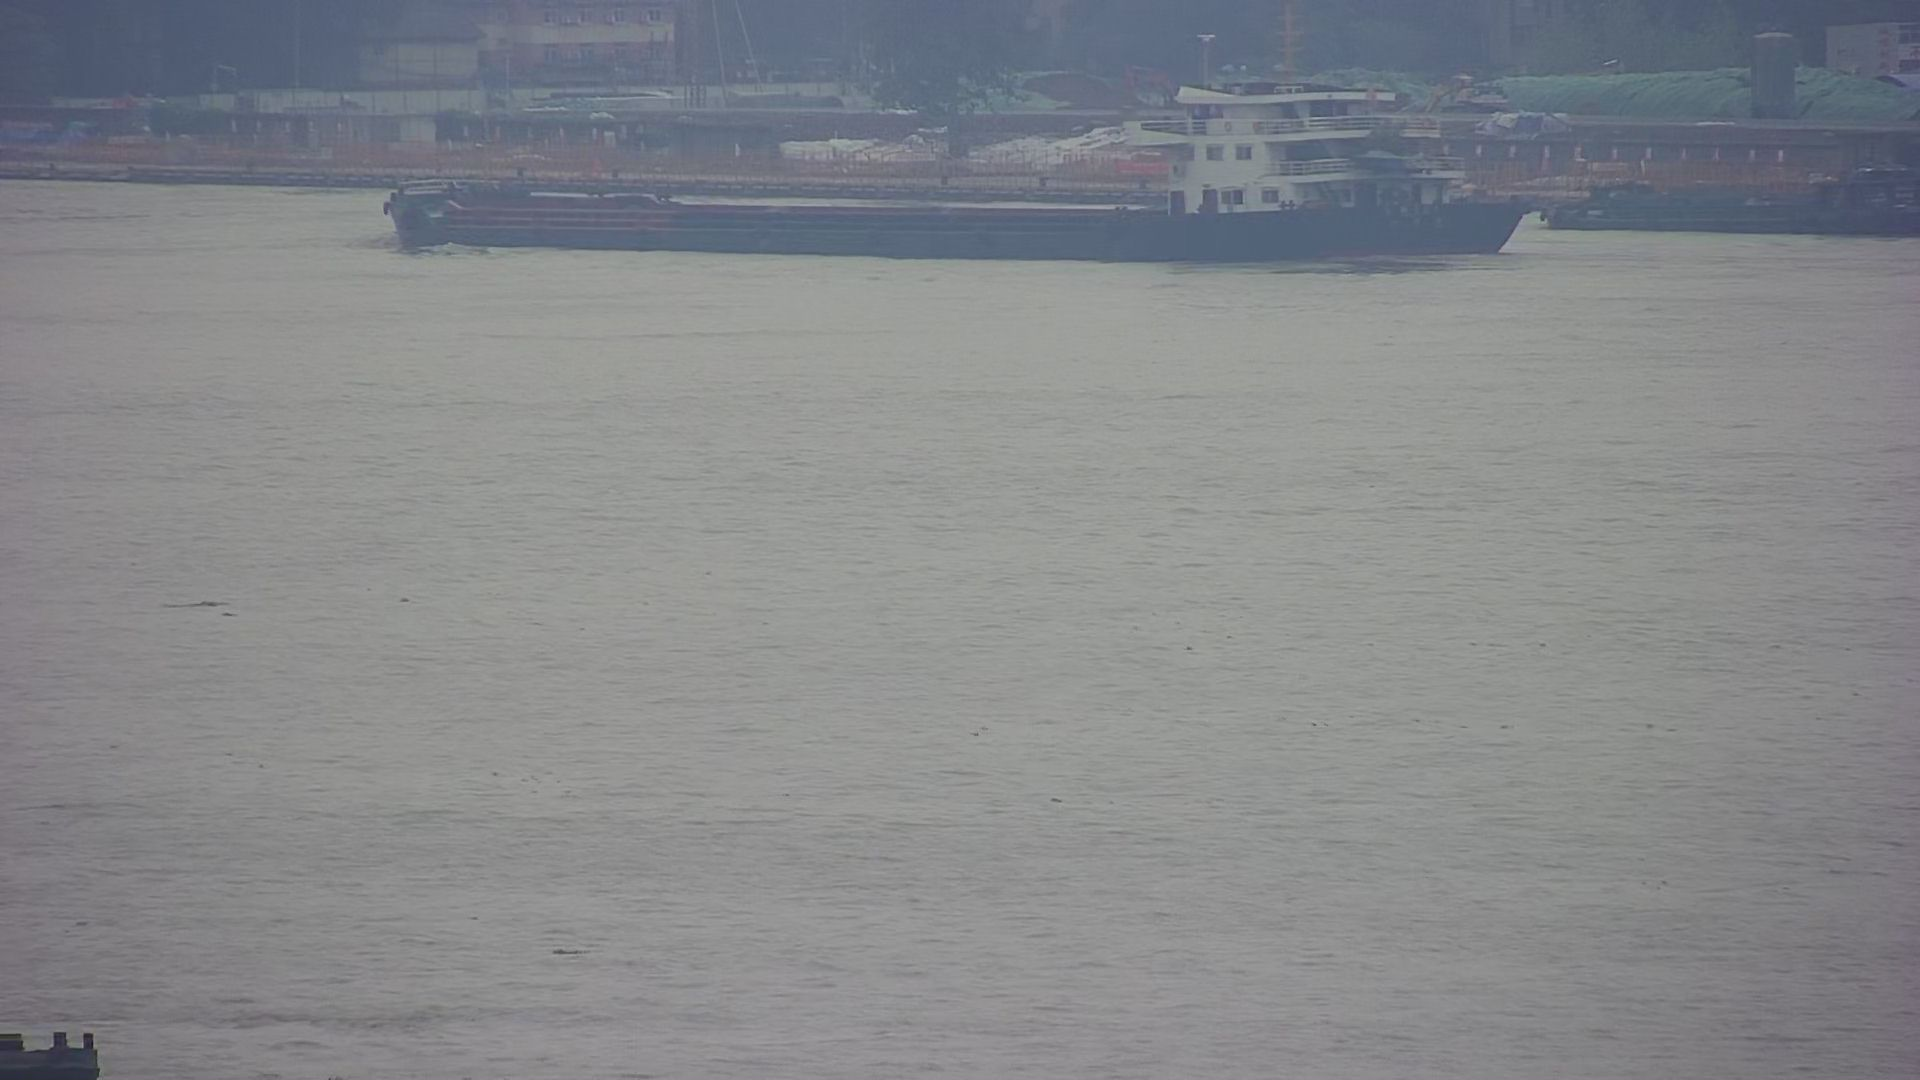ship: (372, 55, 1539, 270), (1542, 148, 1920, 252)
